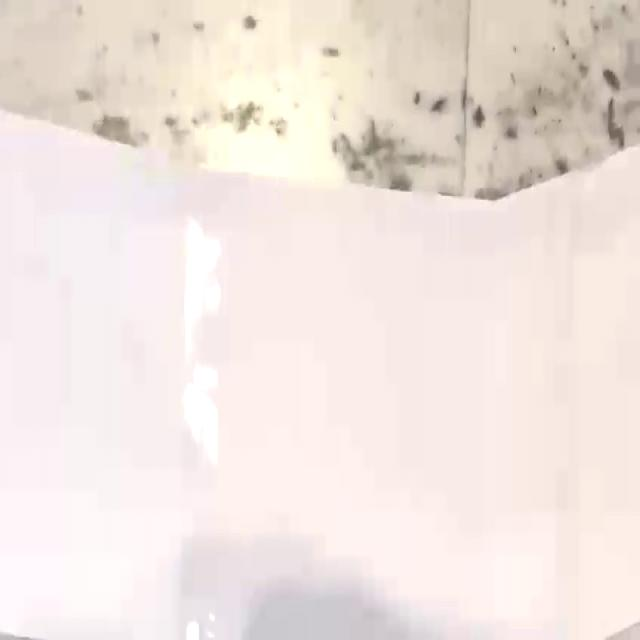road: (0, 112, 640, 640)
